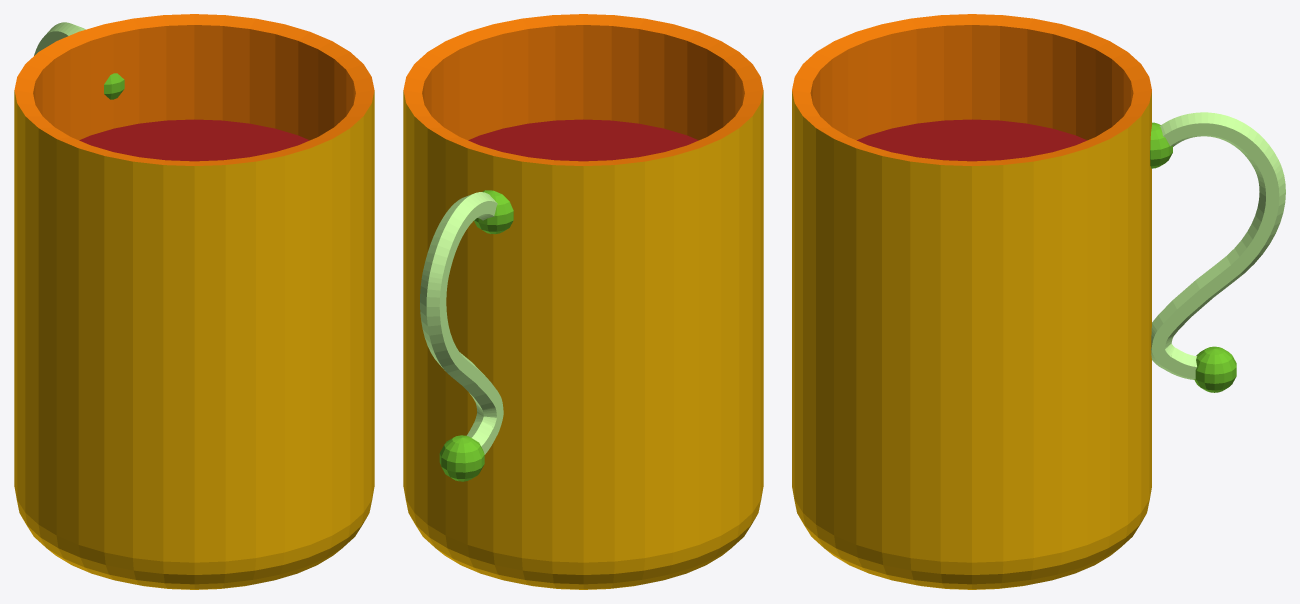
File: кружка2.fbx
The picture shows the model from 3 angles, left to right: view 1: azimuth 30°, elevation 25°; view 2: azimuth 150°, elevation 25°; view 3: azimuth 270°, elevation 25°; orthographic projection.
Visible parts, largest first — view 1: Цилиндр_2, Цилиндр_2_2, Цилиндр, Sweep; view 2: Цилиндр_2, Цилиндр_2_2, Sweep, Цилиндр, Сфера, Сфера_1; view 3: Цилиндр_2, Цилиндр_2_2, Sweep, Цилиндр, Сфера, Сфера_1.
Boxes of the visible parts, x1,y1,x2,y2 form: Цилиндр_2: (14,90,374,589); Цилиндр_2_2: (14,14,374,165); Цилиндр: (79,119,309,161); Sweep: (34,22,85,55); Цилиндр_2: (403,90,763,589); Цилиндр_2_2: (403,14,763,165); Sweep: (420,192,503,454); Цилиндр: (468,119,698,161); Сфера: (439,435,484,481); Сфера_1: (474,190,513,234); Цилиндр_2: (792,91,1151,589); Цилиндр_2_2: (792,14,1151,165); Sweep: (1151,112,1285,379); Цилиндр: (857,119,1086,161); Сфера: (1194,346,1236,392); Сфера_1: (1150,122,1172,168).
Bounding box in the file's own units: 10.9 × 14.69 × 14.95.
